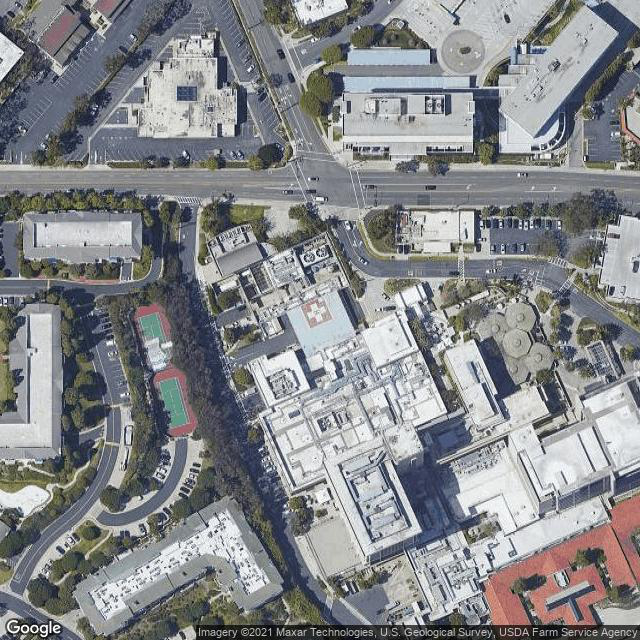Helipad: (299, 299, 332, 327)
